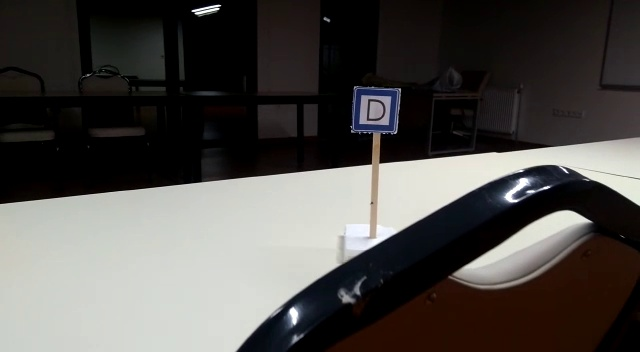durak: (351, 87, 400, 133)
